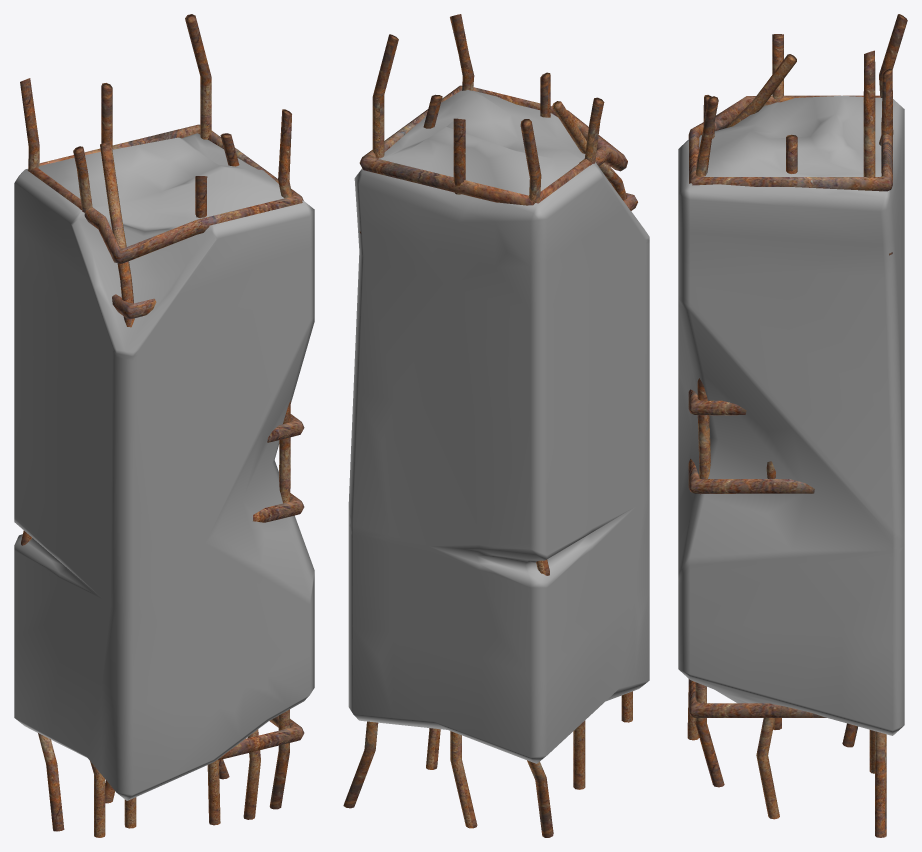
The model's file is Pillar_B.fbx.
3 views of the same model, side by side, from view 1: azimuth 30°, elevation 25°; view 2: azimuth 150°, elevation 25°; view 3: azimuth 270°, elevation 25° (orthographic).
Visible parts, largest first — view 1: polySurface10; view 2: polySurface10; view 3: polySurface10.
Part boxes in pixels (x1,y1,x2,y2): polySurface10: (14, 14, 314, 837); polySurface10: (343, 14, 649, 837); polySurface10: (678, 14, 907, 837).
Bounding box in the file's own units: 4.22 × 14.97 × 4.06.
